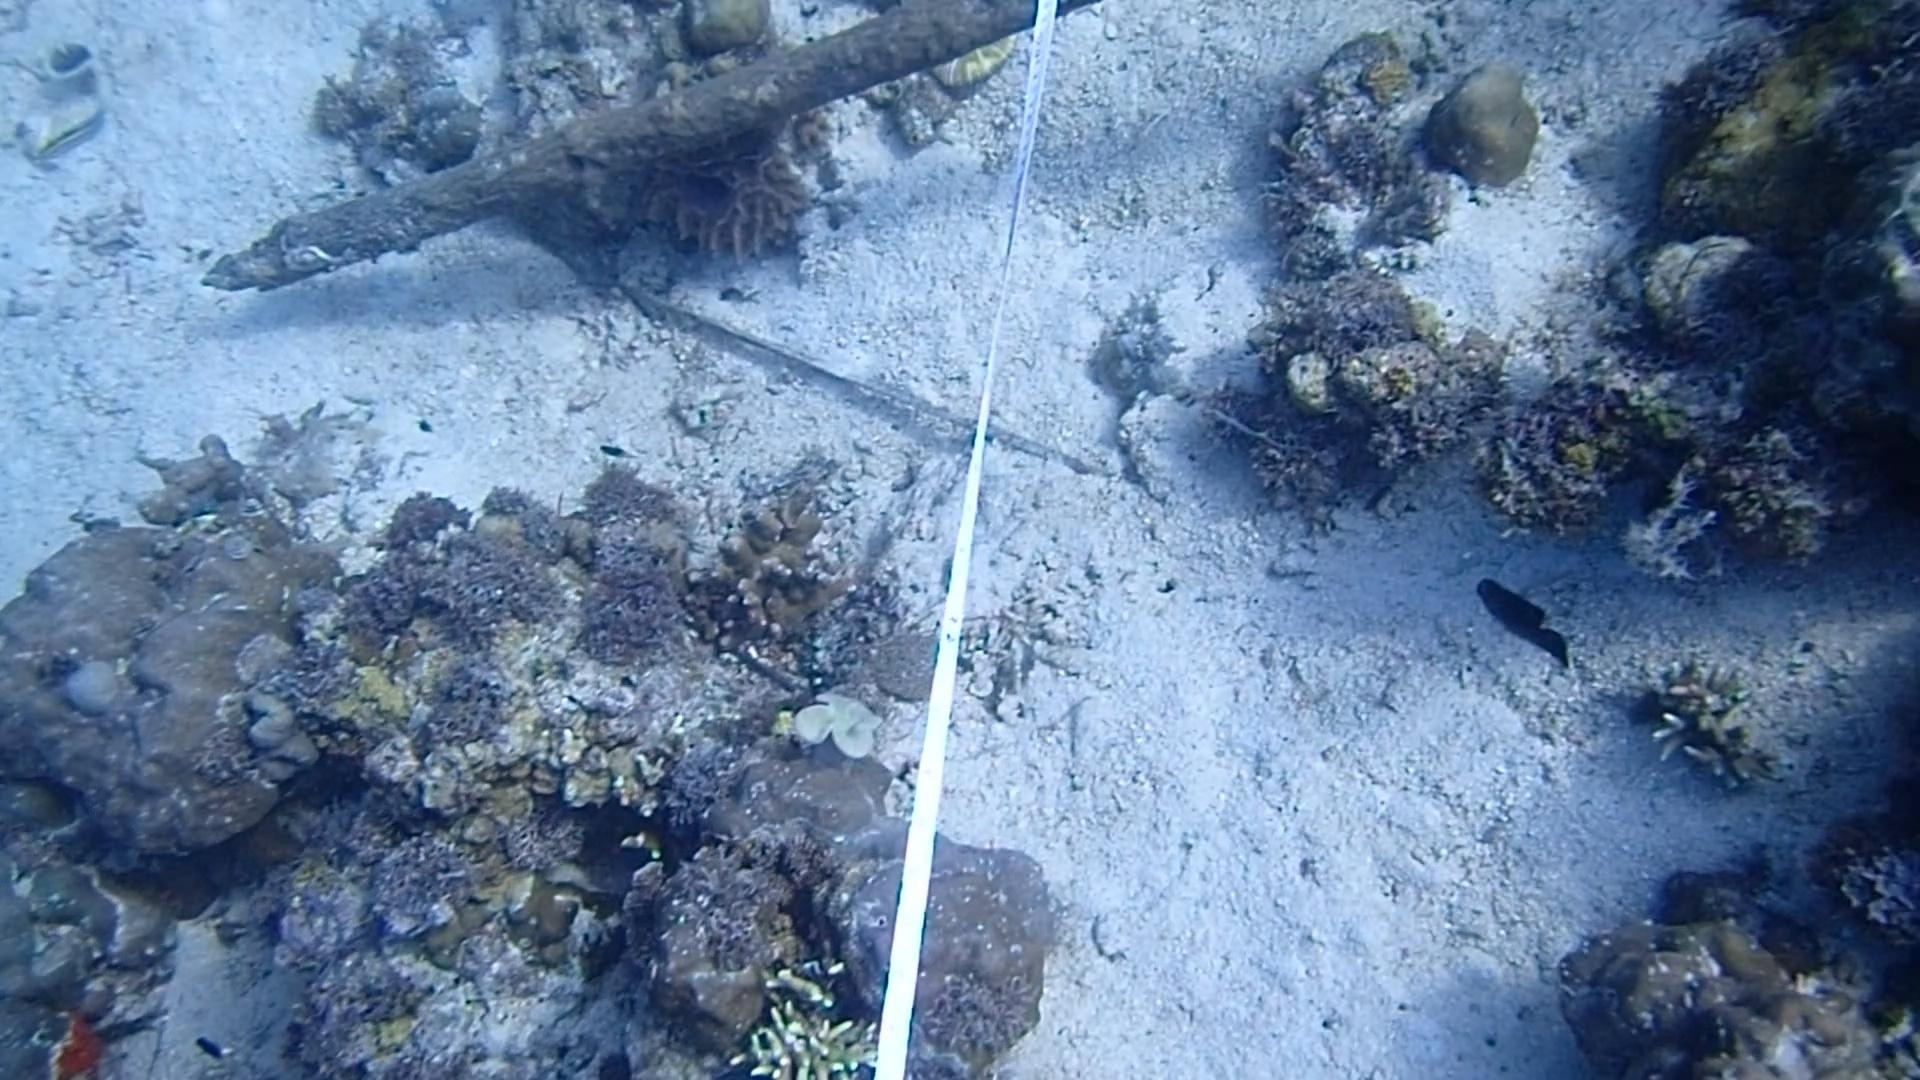Dark Fish: (1464, 576, 1584, 671)
Striped Fish: (37, 87, 112, 175)
